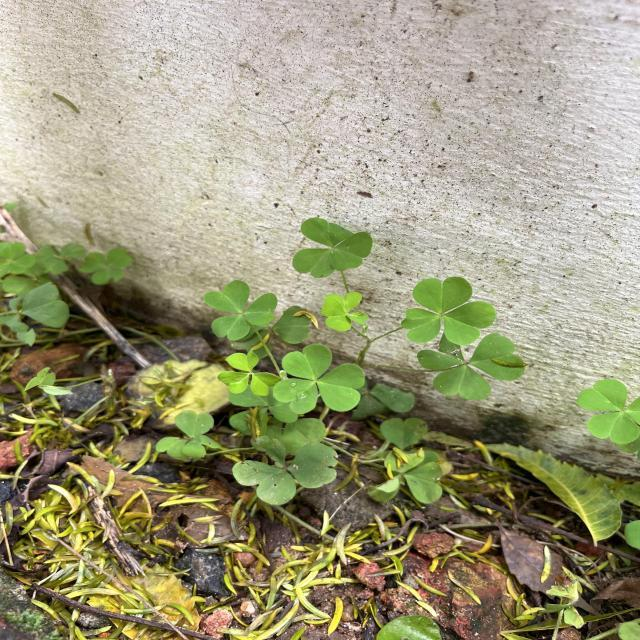Oxalis corniculata: (416, 332, 526, 400), (232, 442, 340, 506), (399, 275, 496, 346), (271, 343, 366, 415), (292, 217, 374, 279), (203, 278, 278, 342), (576, 378, 640, 445), (154, 409, 216, 461), (217, 348, 280, 396), (320, 291, 370, 332)
